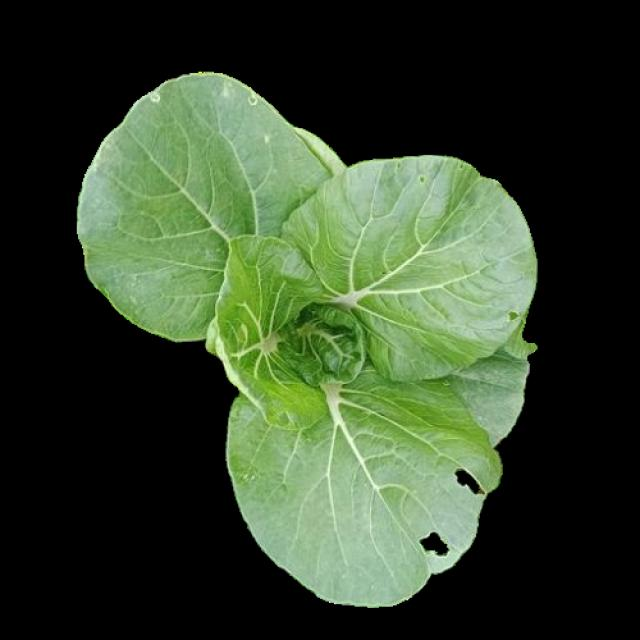mature: (74, 72, 538, 604)
unhealthy: (83, 77, 330, 338), (228, 393, 502, 603), (284, 157, 535, 379)
